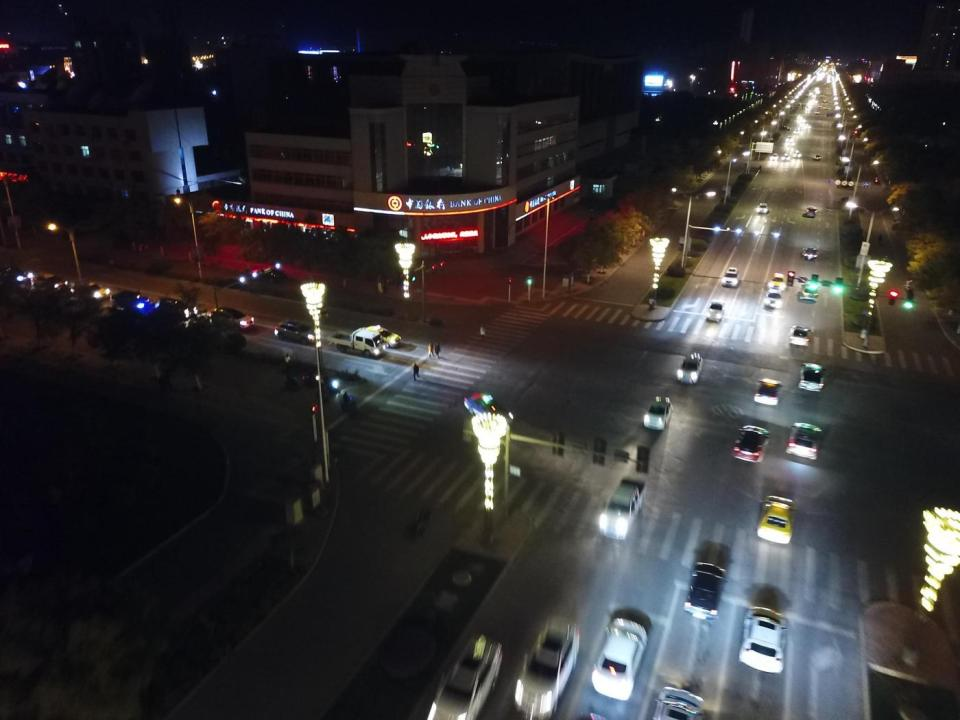car: (415, 637, 502, 720), (513, 616, 580, 718), (590, 617, 648, 700), (738, 606, 787, 674), (683, 561, 727, 620), (650, 685, 706, 720), (757, 495, 795, 545), (464, 392, 514, 429), (732, 425, 769, 464), (786, 422, 821, 461), (209, 306, 254, 330), (643, 395, 673, 430), (274, 320, 317, 344), (111, 290, 151, 314), (360, 324, 401, 346), (154, 298, 198, 318), (677, 352, 703, 384), (798, 362, 825, 392), (754, 378, 783, 404), (77, 280, 110, 300), (0, 266, 34, 284), (34, 274, 68, 292), (788, 324, 812, 346), (706, 300, 725, 322), (259, 267, 286, 282), (764, 288, 782, 310), (721, 266, 739, 286), (800, 284, 818, 302), (768, 273, 786, 291), (802, 247, 819, 260), (756, 202, 769, 213), (806, 206, 817, 216), (793, 150, 801, 158), (770, 153, 778, 160), (782, 153, 789, 160), (813, 154, 821, 160), (786, 136, 793, 142), (782, 125, 790, 130), (769, 112, 777, 117), (805, 123, 810, 129), (796, 115, 802, 120), (799, 125, 804, 130), (800, 119, 805, 124), (775, 106, 780, 111), (814, 99, 818, 105), (822, 100, 828, 104), (809, 92, 814, 96), (807, 102, 812, 106), (824, 106, 829, 110), (815, 110, 820, 114), (797, 119, 800, 125), (814, 87, 818, 91), (810, 98, 814, 102), (806, 106, 810, 110), (818, 104, 822, 108), (840, 98, 844, 102), (788, 95, 792, 99), (780, 106, 784, 109), (782, 102, 786, 105), (790, 92, 794, 95), (821, 93, 824, 96), (786, 99, 789, 102)
truck: (599, 481, 646, 539), (327, 328, 387, 360)
